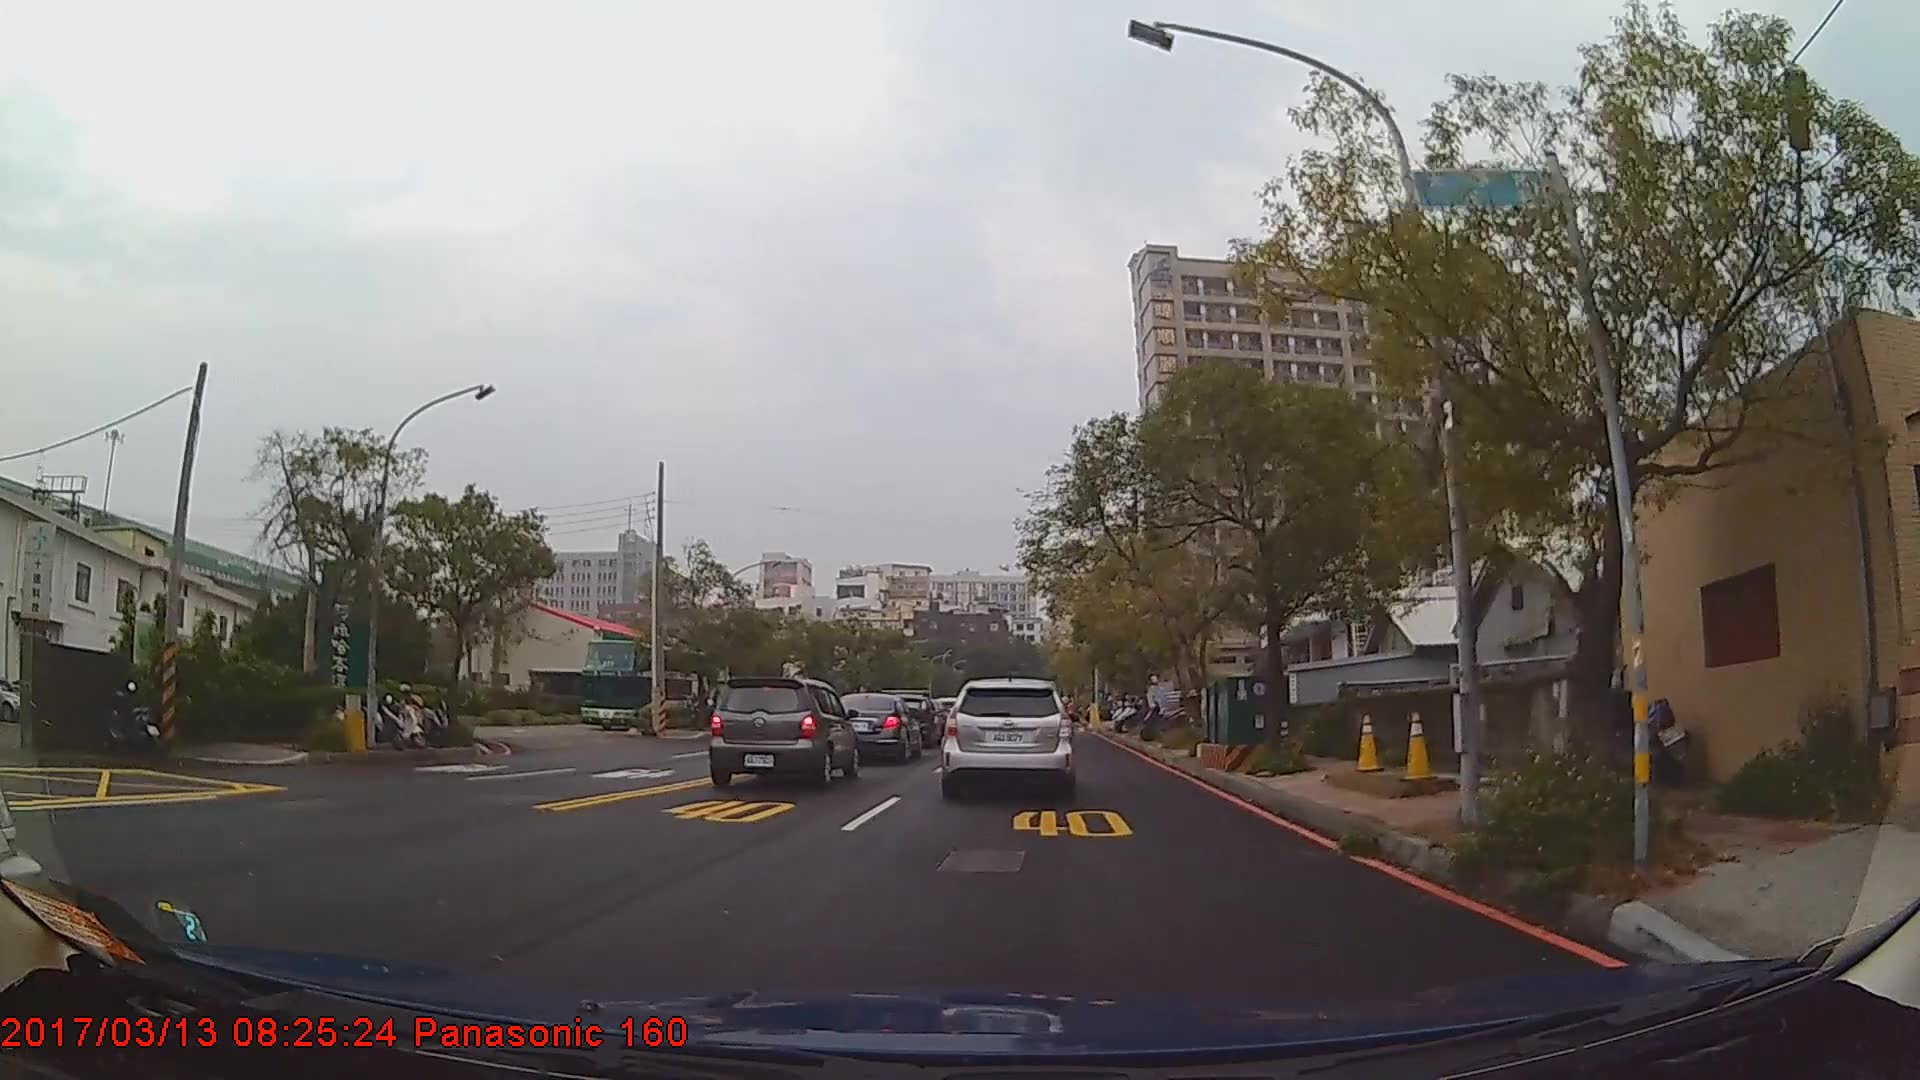vehicle: (705, 673, 857, 785), (940, 676, 1075, 796), (579, 636, 719, 731), (827, 692, 922, 761)
